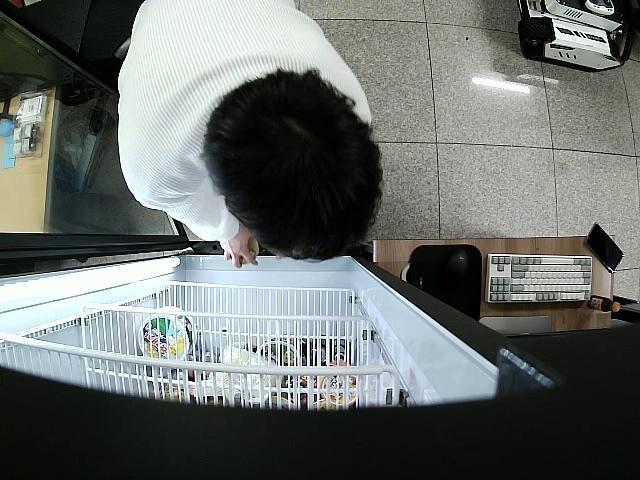04_chapagetti_S: (238, 236, 259, 270)
